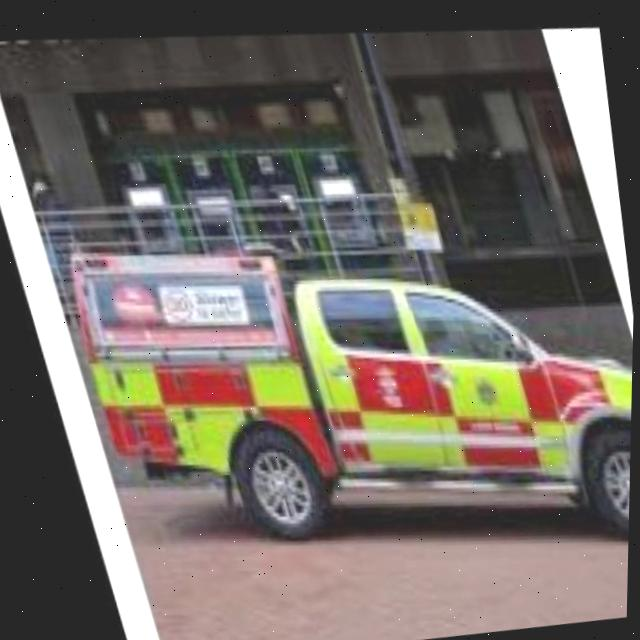emergency: (59, 170, 637, 610)
